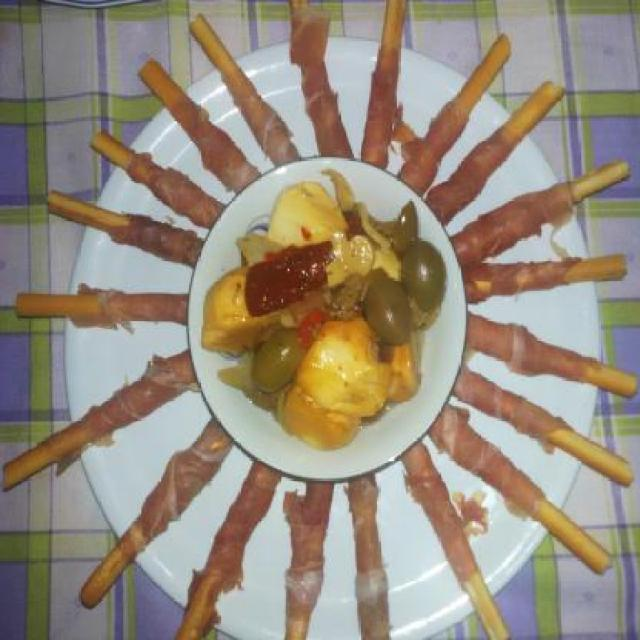Grissini: (416, 29, 633, 309), (406, 374, 632, 626), (85, 428, 342, 638), (42, 182, 205, 273), (83, 126, 219, 223)
